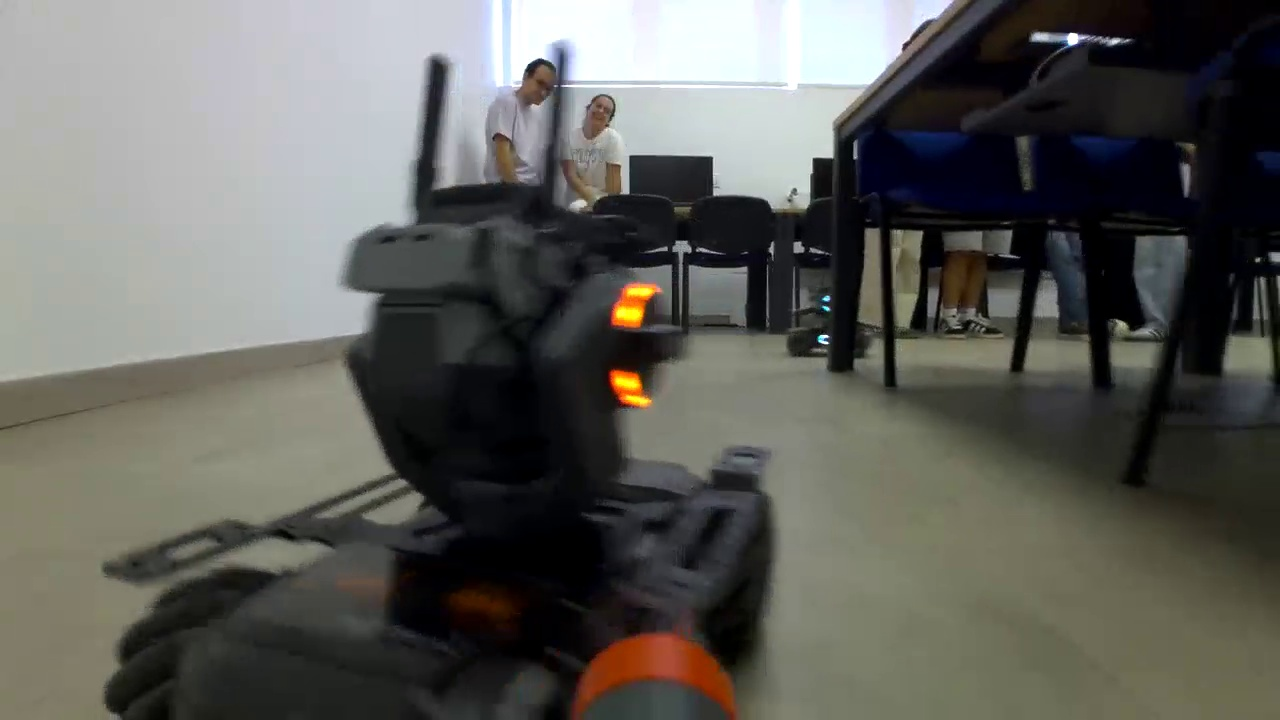robot: (93, 210, 793, 720), (795, 282, 868, 367)
